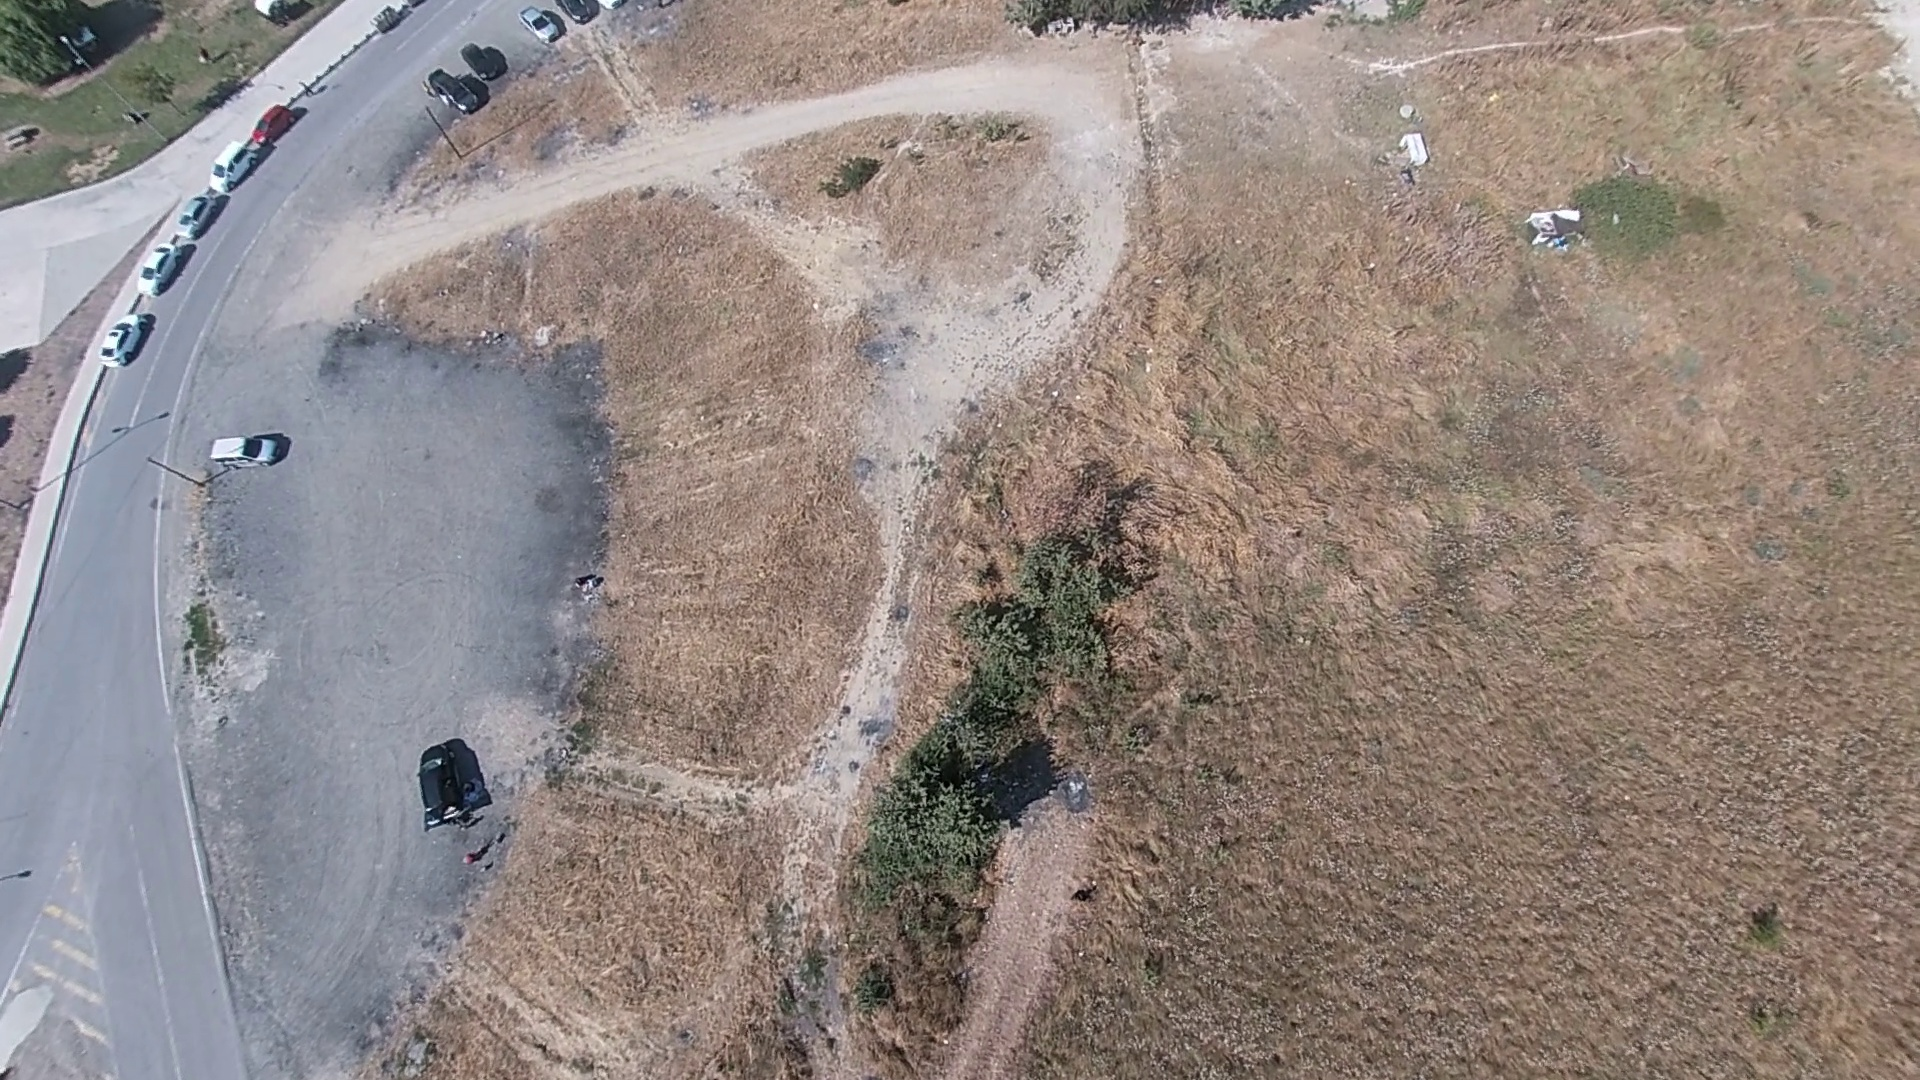arac: (414, 734, 496, 825), (97, 311, 156, 365)
insan: (1524, 210, 1577, 252)
